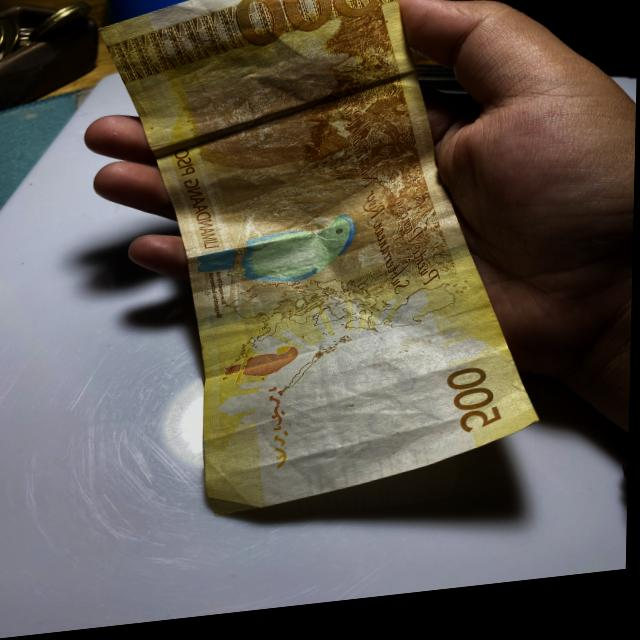500_big_parrot: (202, 220, 358, 299)
500_parrot_watermark: (230, 348, 305, 386)
value_watermark: (319, 442, 372, 468)
watermark: (282, 343, 460, 483)
